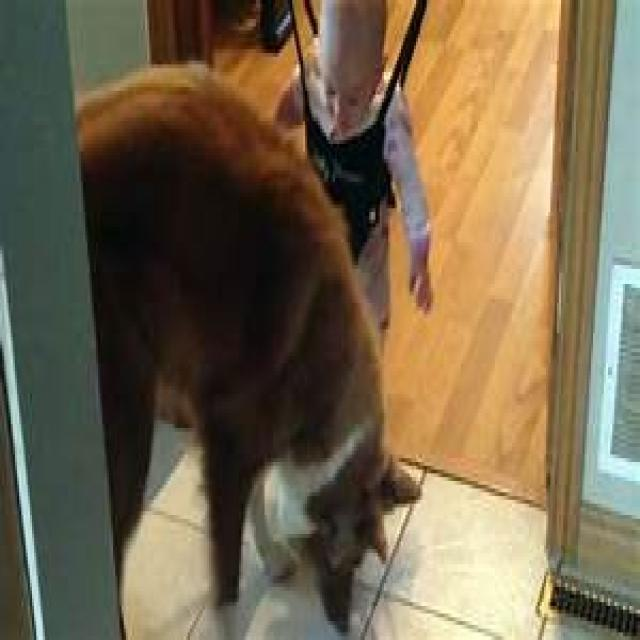dog: (77, 64, 422, 640)
